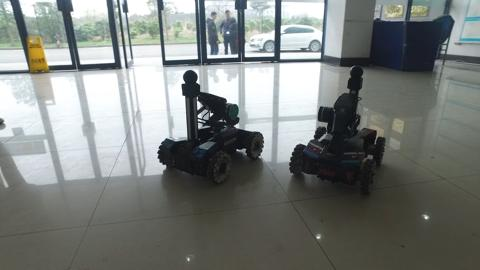chariot: (285, 55, 391, 219), (154, 64, 270, 191)
